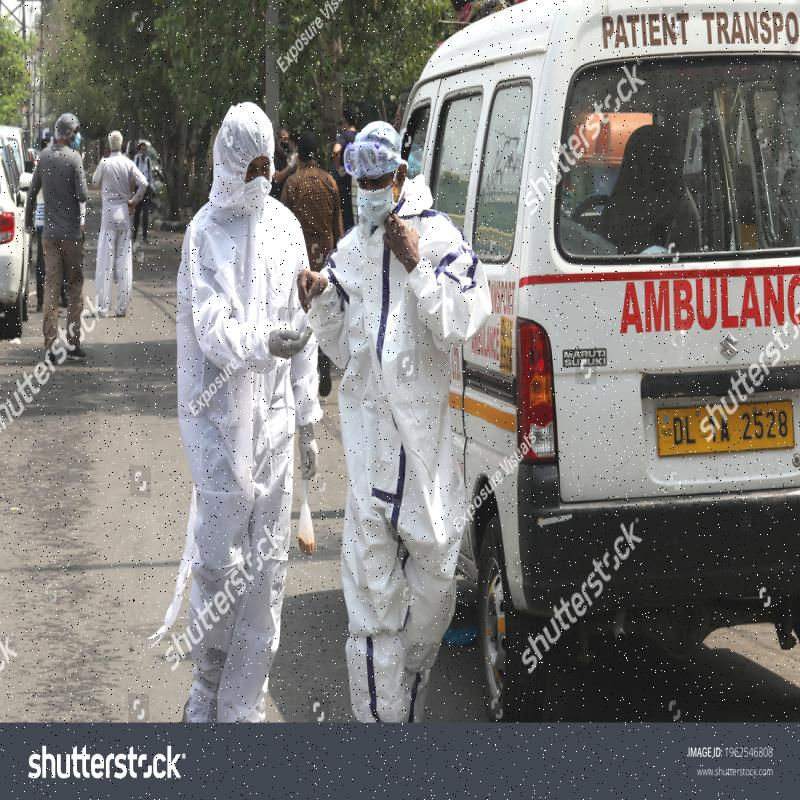ambulance: (407, 18, 800, 670)
